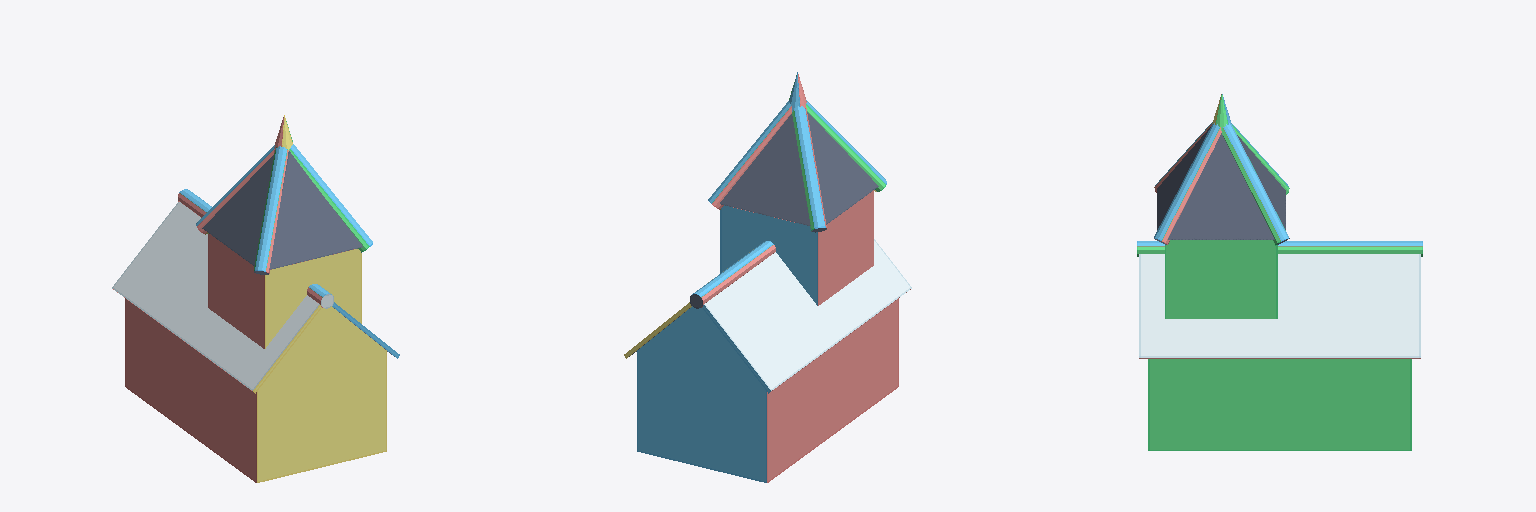
The picture shows the model from 3 angles: view 1: azimuth 30°, elevation 25°; view 2: azimuth 150°, elevation 25°; view 3: azimuth 270°, elevation 25°; orthographic projection.
Visible parts, largest first — view 1: cuboid, cylinder; view 2: cuboid, cylinder; view 3: cuboid, cylinder.
Part boxes in pixels (bbox=[...]): cuboid: bbox=[112, 151, 399, 482]; cylinder: bbox=[178, 144, 372, 308]; cuboid: bbox=[624, 112, 911, 482]; cylinder: bbox=[690, 100, 886, 308]; cuboid: bbox=[1139, 127, 1420, 450]; cylinder: bbox=[1137, 122, 1422, 256].
Bounding box in the file's own units: 13.61 × 28.75 × 22.88.
Materials: 1 (1 with a texture image).